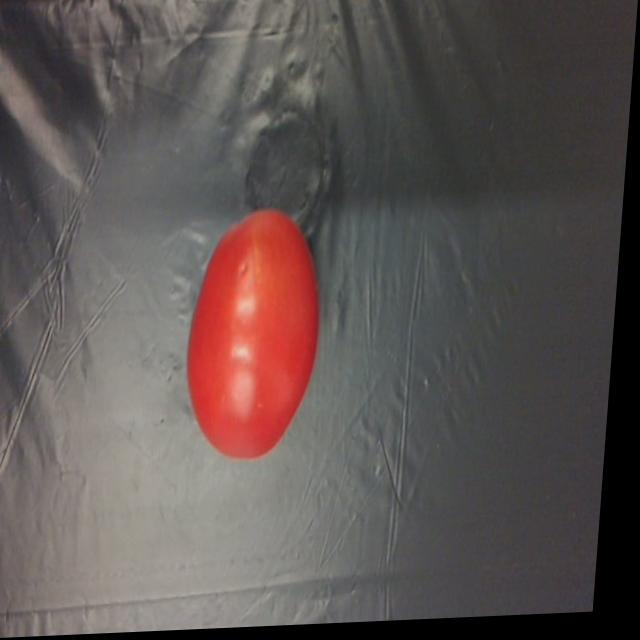kirmizi: (153, 178, 352, 502)
